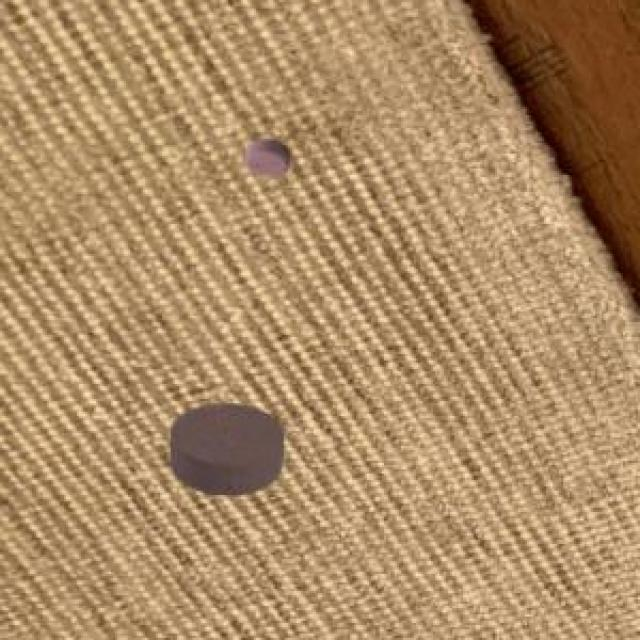Kremil_S: (162, 393, 295, 504), (239, 132, 297, 190)
